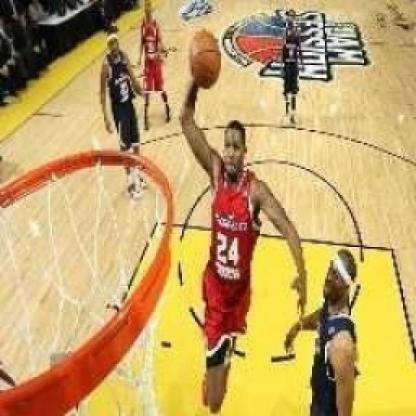basketball: (185, 27, 225, 85)
